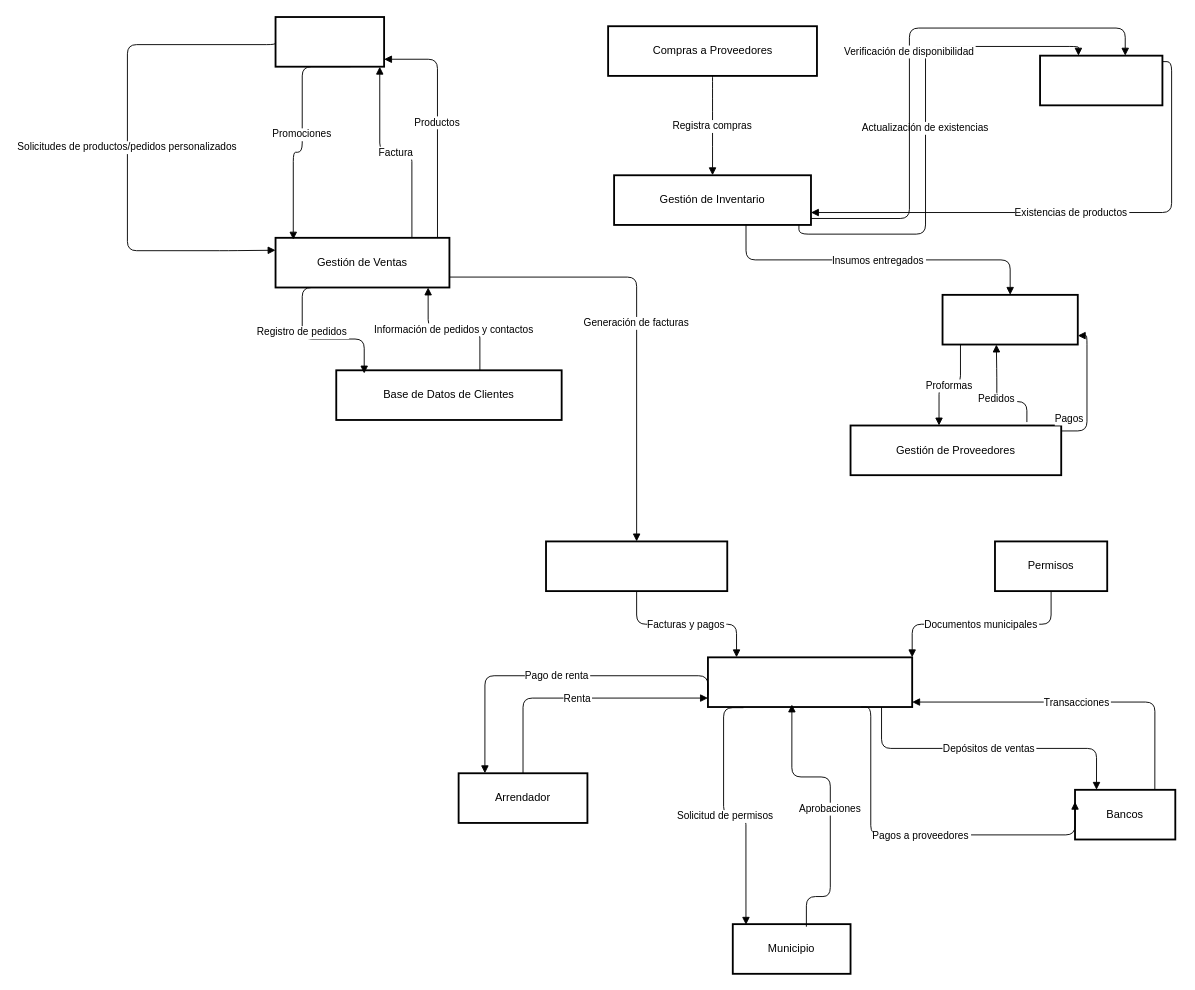
The diagram is 1195 pixels wide and 990 high, and some of its shapes have lost their labels. Here are the shapes that lost their labels. From the top down, the centre of each, then its label:
At (329,41): "Clientes".
At (1101,80): "Inventario".
At (1009,319): "Proveedores".
At (636,566): "Registro Financiero".
At (810,681): "Gestión Administrativa".
